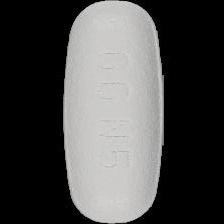53808-0759: (0, 0, 224, 224)
